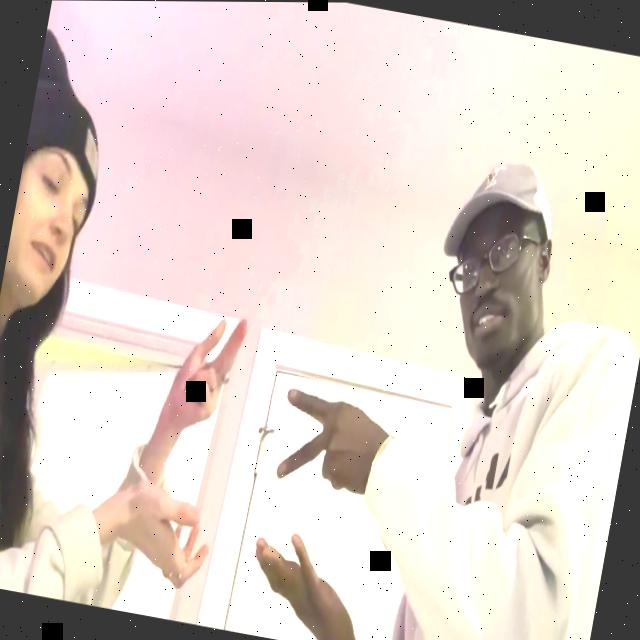Scissors: (270, 382, 382, 497), (166, 308, 248, 433)
